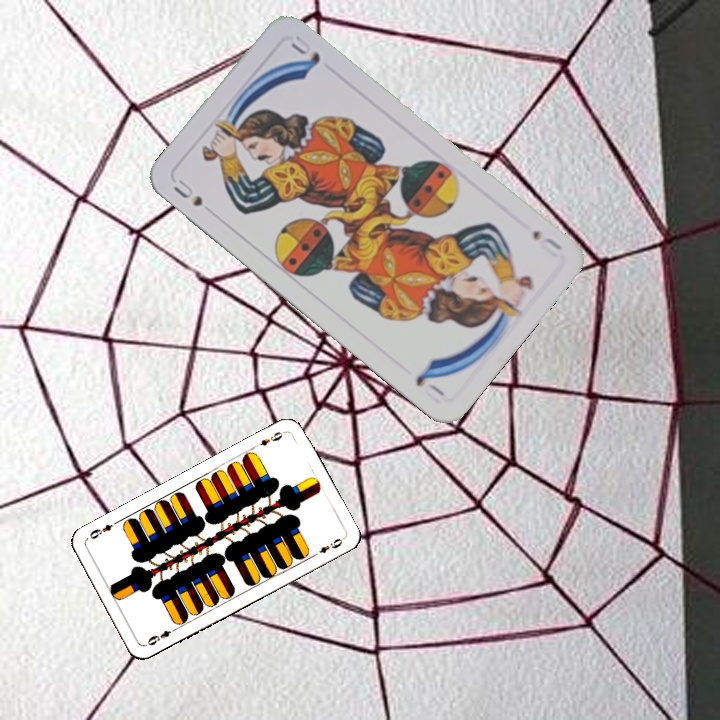E9: (142, 623, 179, 648), (250, 427, 288, 451)
SU: (169, 175, 206, 210), (528, 226, 565, 260)
